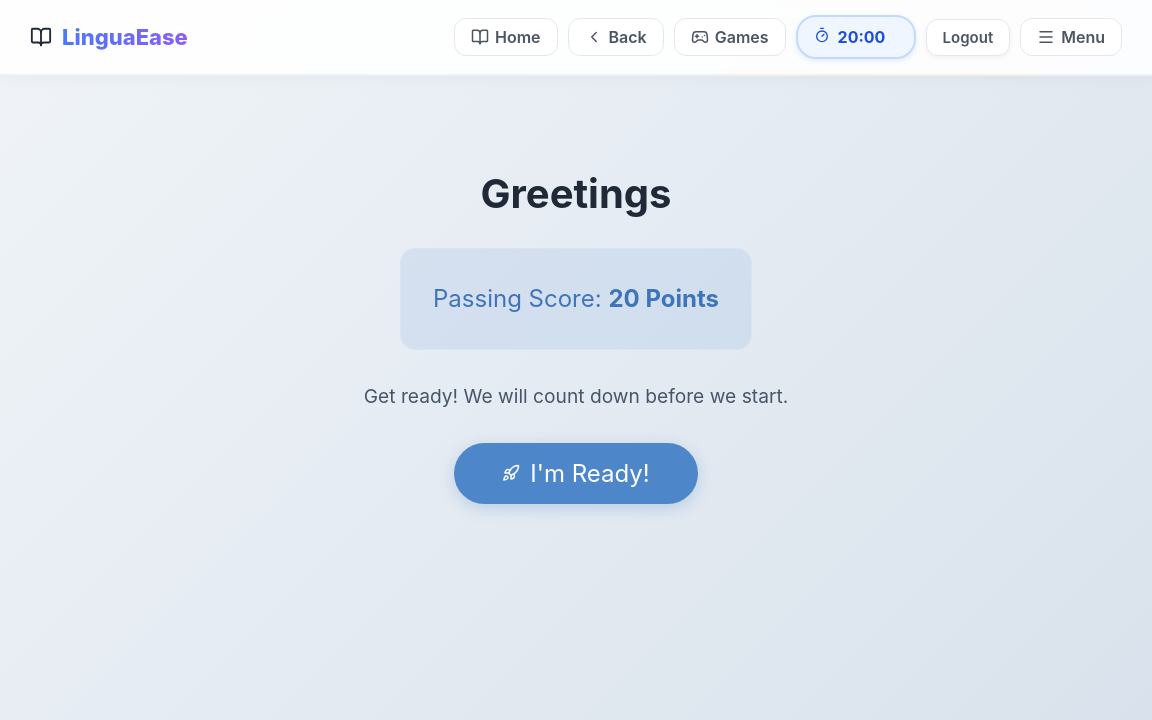
ADHDView Component - ADHD Learning Features › 3. Interactive Quizzes & Feedback › should give correct feedback on correct answer
This screenshot has width=1152, height=720.
Expected: the heading "Greetings" is shown, [480,169,672,218]
Click the button "I'm Ready!" at (576,474), box [454,443,698,504]
Wait 5000 ms
(page scrolled)
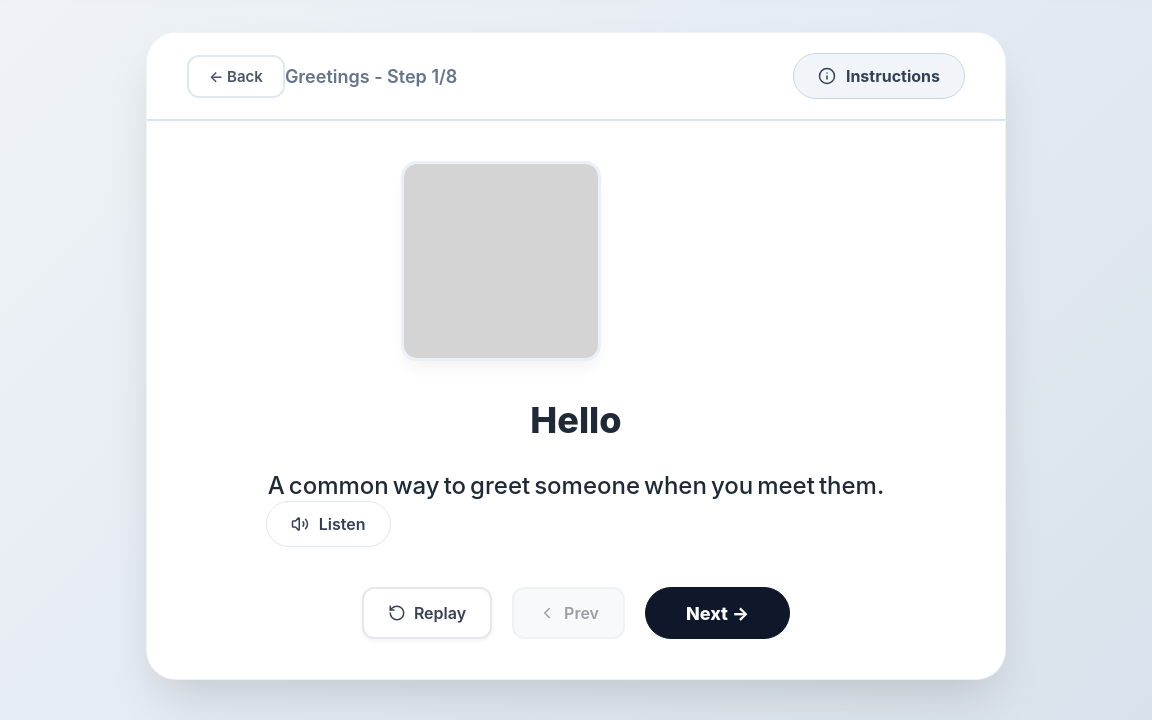
Click the button "Next →" at (718,613), box [645,587,790,639]
(page scrolled)
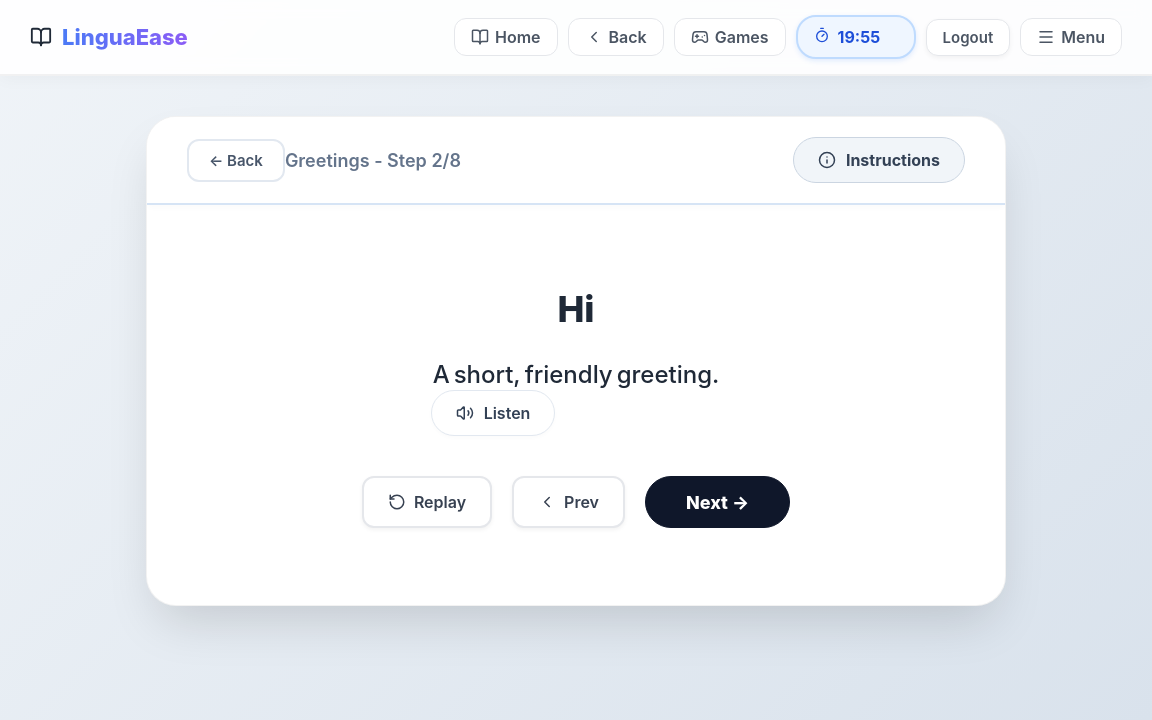
Click the button "Next →" at (718,502), box [645,476,790,528]
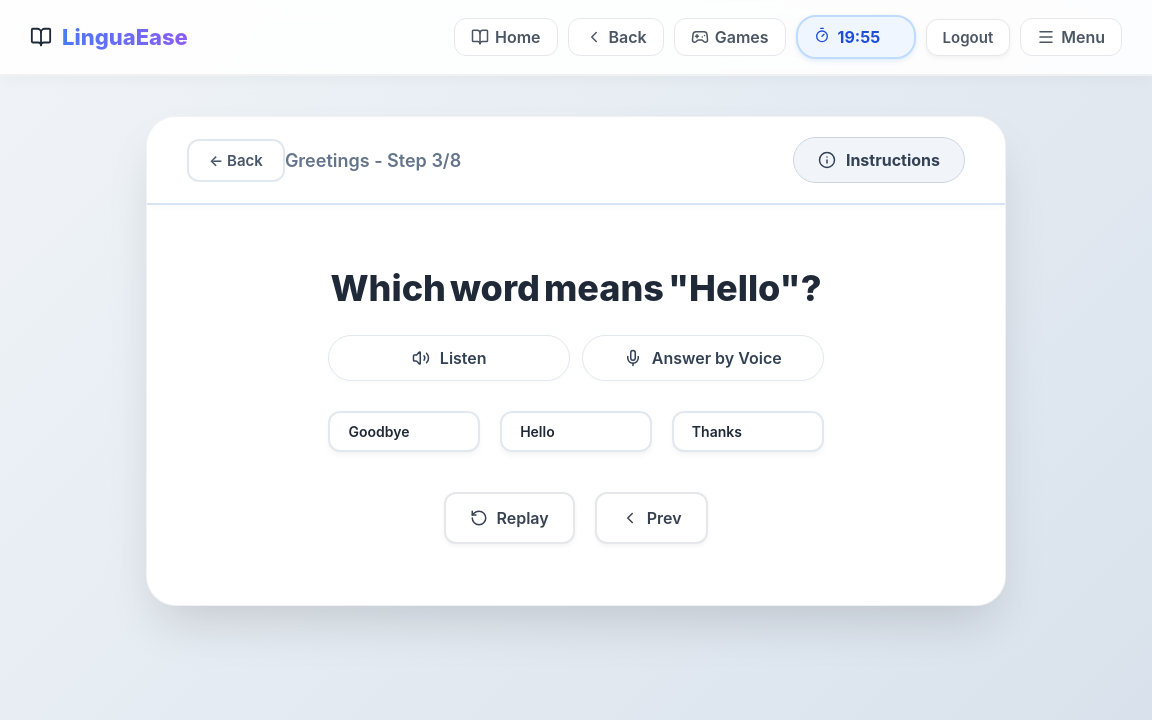
Click the button "Hello" at (576,432), box [500,411,652,452]
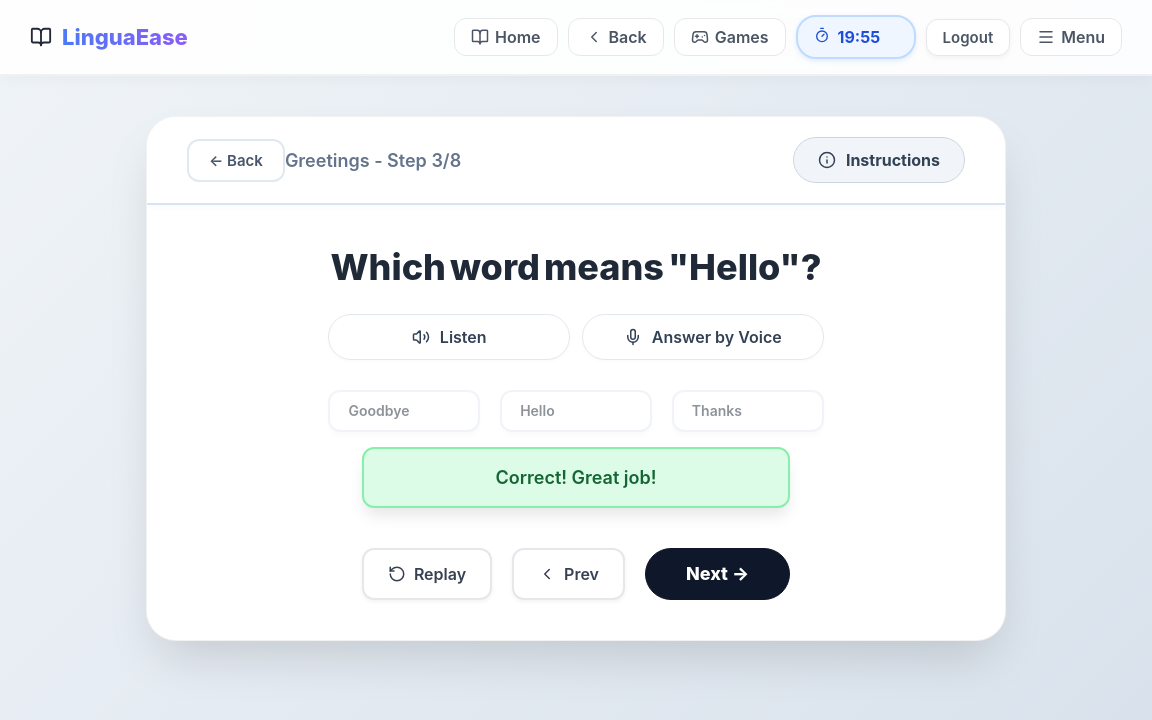
Now the text "Correct! Great job!" is shown, box [362,446,790,508]
Now the button "Next →" is shown, box [645,548,790,600]
